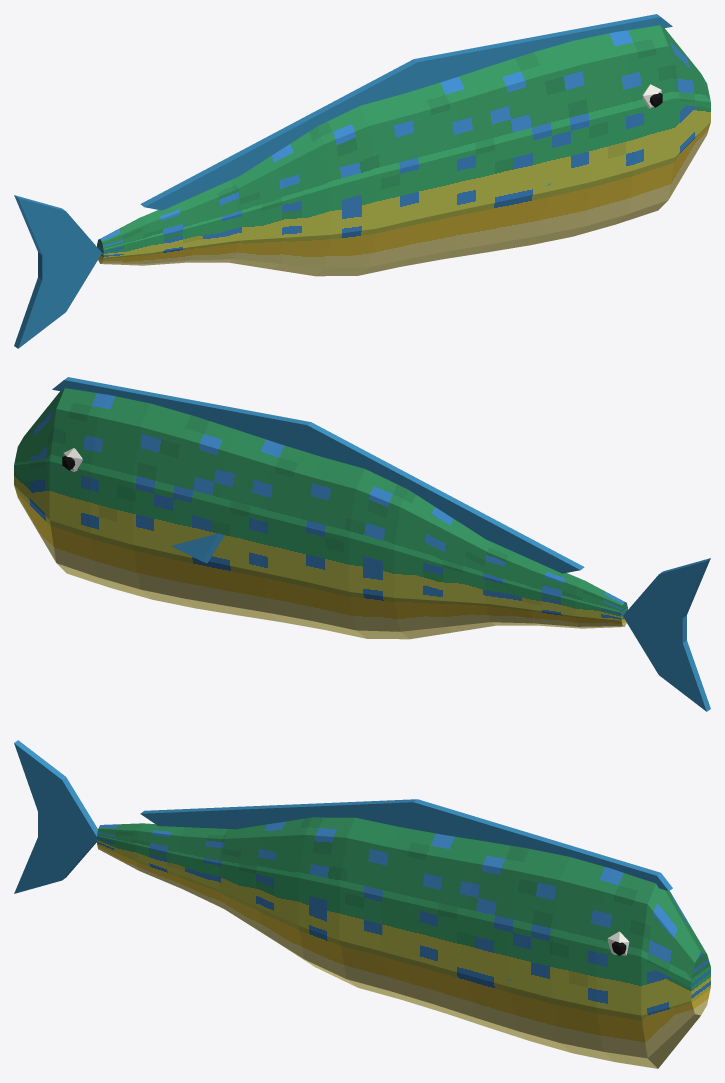
File: mahi_mahi.glb
3 renders of one model, top to bottom at view 1: azimuth 30°, elevation 25°; view 2: azimuth 150°, elevation 25°; view 3: azimuth 330°, elevation 25°, orthographic.
Parts seen in each view (by area): view 1: fish_mahi_mahi; view 2: fish_mahi_mahi; view 3: fish_mahi_mahi.
Part boxes in pixels (x1,y1,x2,y2): fish_mahi_mahi: [14, 14, 710, 348]; fish_mahi_mahi: [14, 377, 710, 711]; fish_mahi_mahi: [14, 740, 710, 1068].
Bounding box in the file's own units: 1.14 × 0.3409 × 0.1451.
4 materials, 1 textured.
